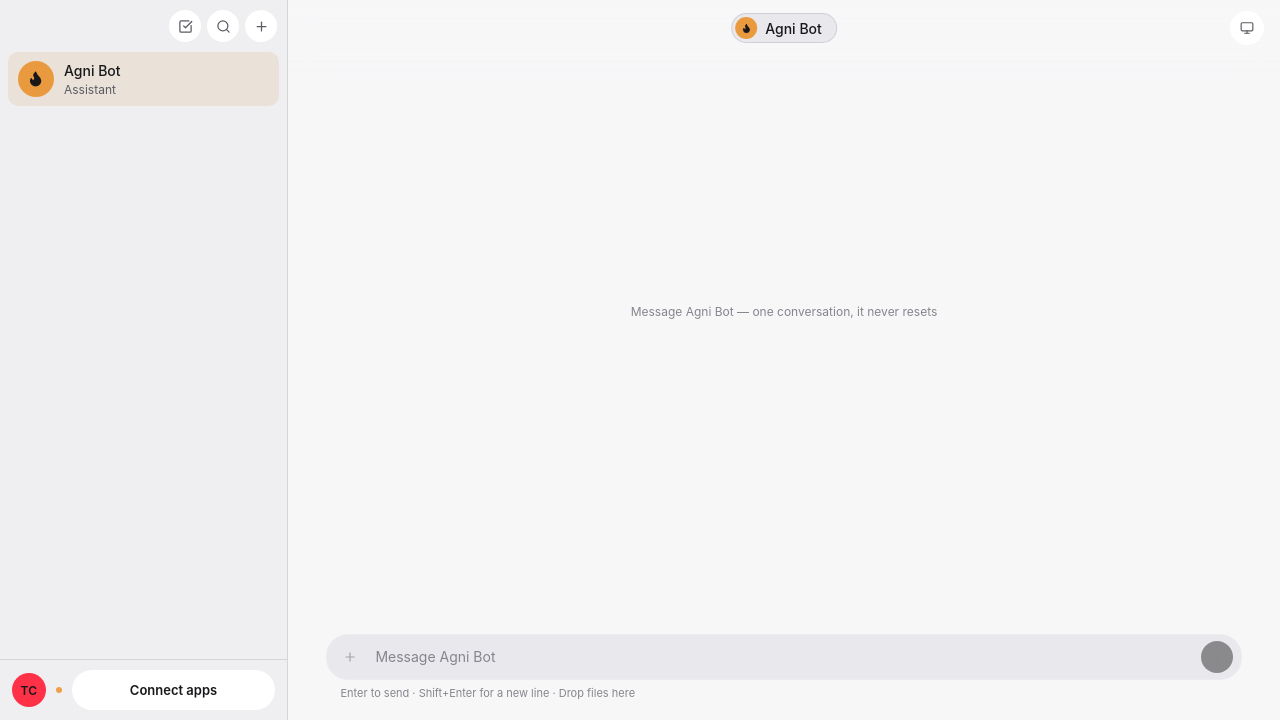
Test: web shell › keeps a failed local echo and explains why
The width and height of the screenshot is (1280, 720).
Type "are you there?" into the text box with placeholder "Message Agni Bot". click: (783, 657)
box: [375,639,1191,675]
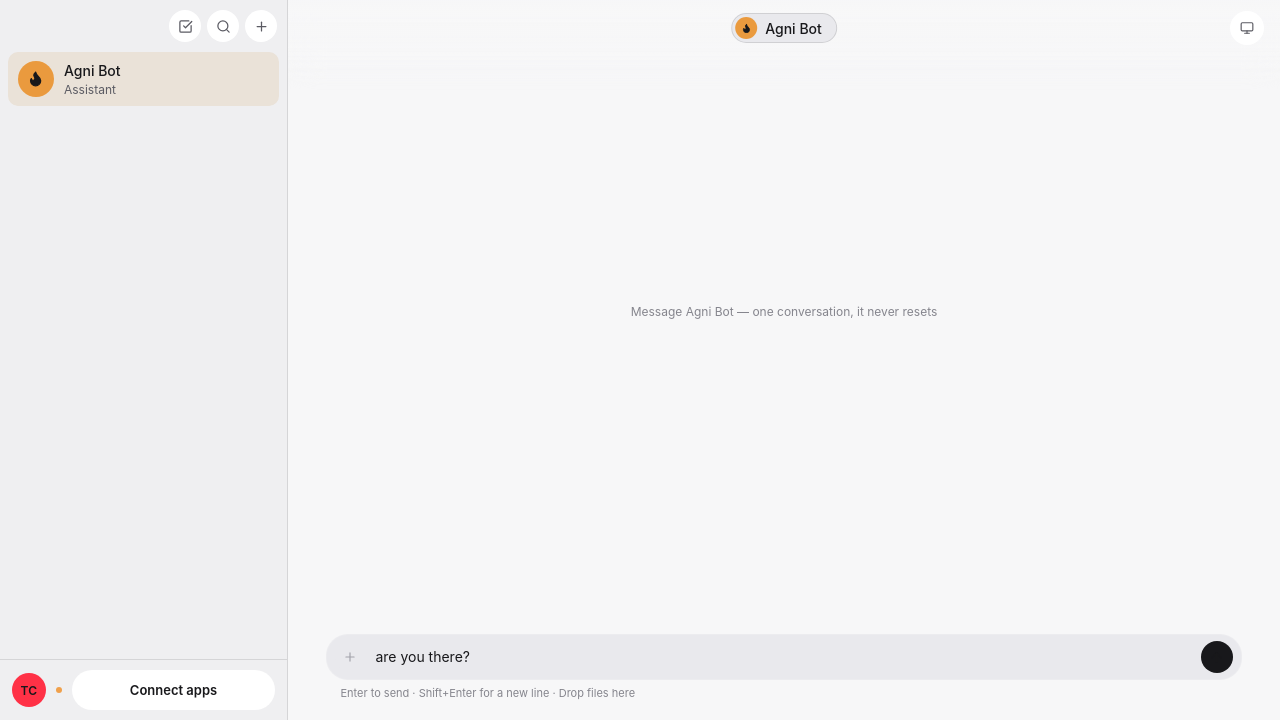
Press Enter in the text box with placeholder "Message Agni Bot", box [375,639,1191,675]
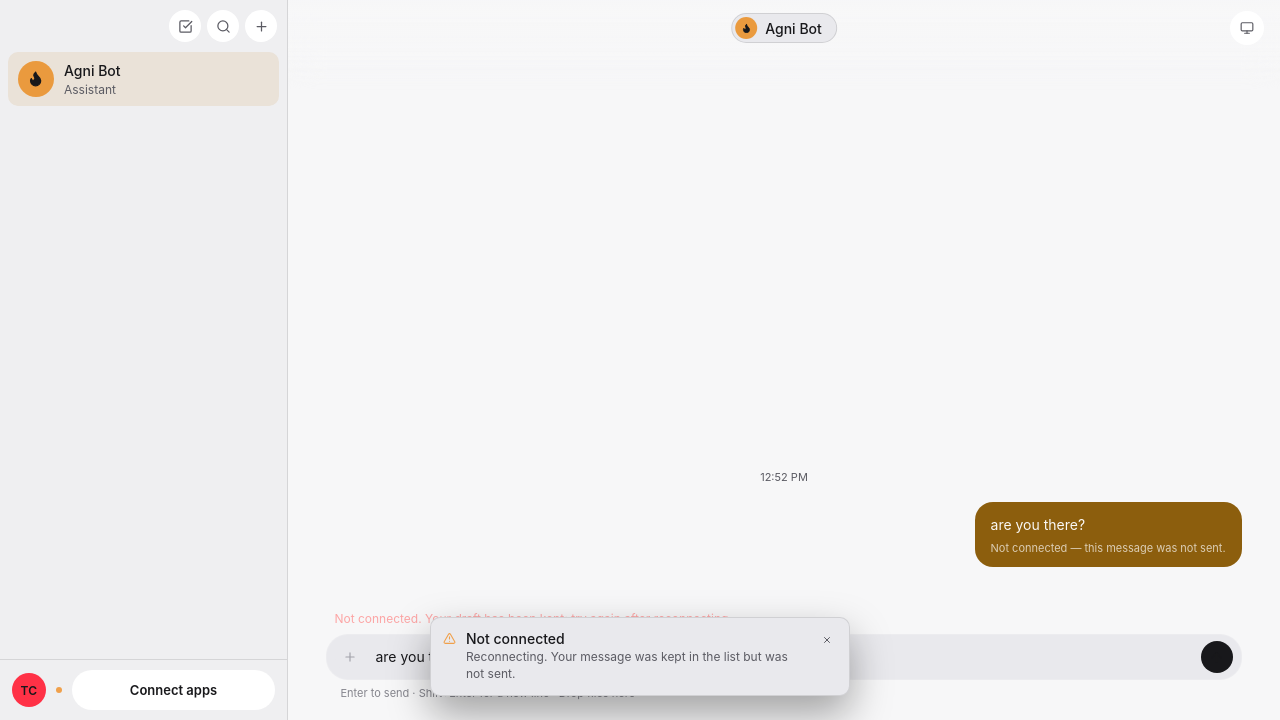
Check: the text "are you there?" is shown, box [990,516,1085,533]
Check: the text "Not connected — this message was not sent." is shown, box [990,541,1226,555]
Check: the text "Not connected" is shown, box [466,630,565,647]
